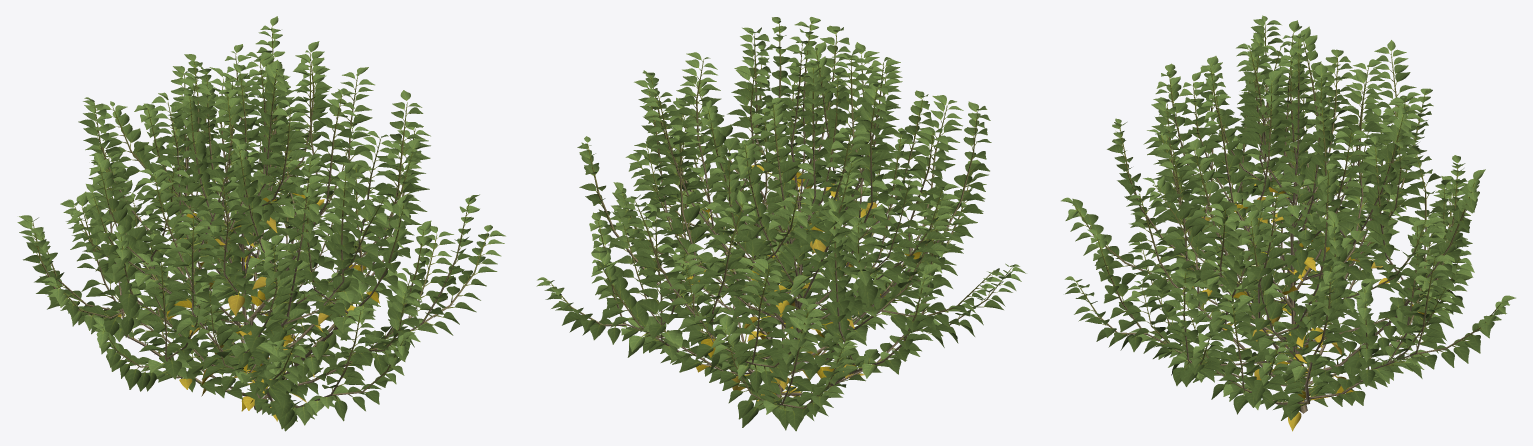
The model's file is Hedera helix 'Erecta' HD_Wild mat 50_LOD2.fbx.
3 views of the same model, side by side, from view 1: azimuth 30°, elevation 25°; view 2: azimuth 150°, elevation 25°; view 3: azimuth 270°, elevation 25° (orthographic). The views are drawn at different scales.
Parts seen in each view (by area): view 1: Hedera_helix__Erecta__HD; view 2: Hedera_helix__Erecta__HD; view 3: Hedera_helix__Erecta__HD.
Part boxes in pixels (box(x1,y1,x2,y2)): Hedera_helix__Erecta__HD: box(17, 16, 505, 431); Hedera_helix__Erecta__HD: box(536, 17, 1026, 431); Hedera_helix__Erecta__HD: box(1061, 15, 1515, 431).
Bounding box in the file's own units: 0.9414 × 0.7951 × 0.8984.
Materials: 10 (10 with a texture image).
